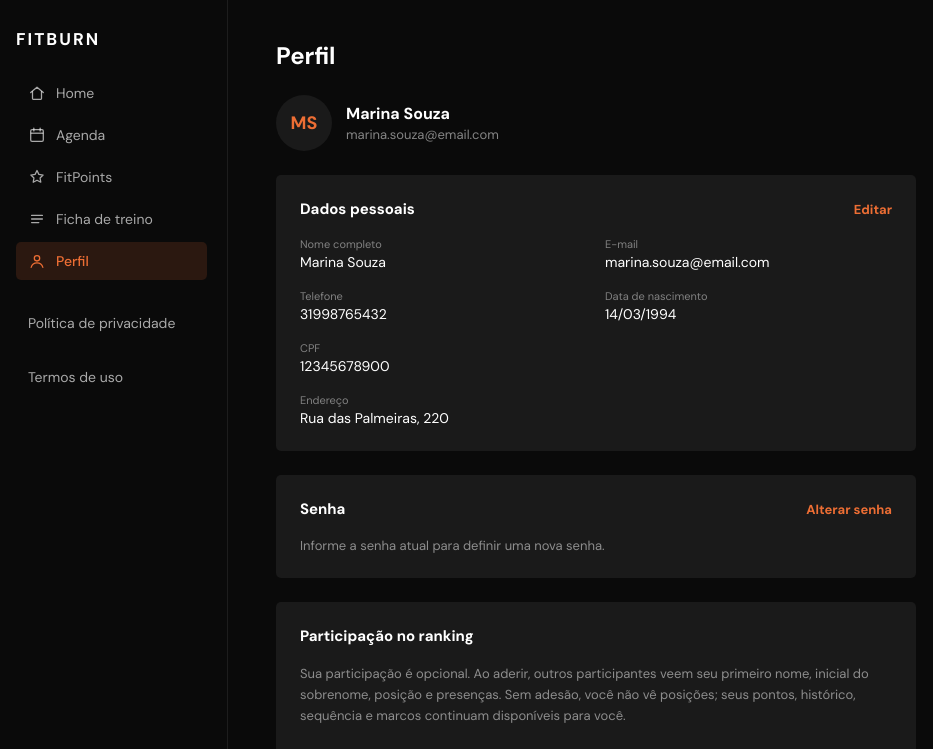
Perfil / Minha conta › cliente › impede remover telefone e data de nascimento
Click the button "Editar": (873, 209) [854,200,892,218]
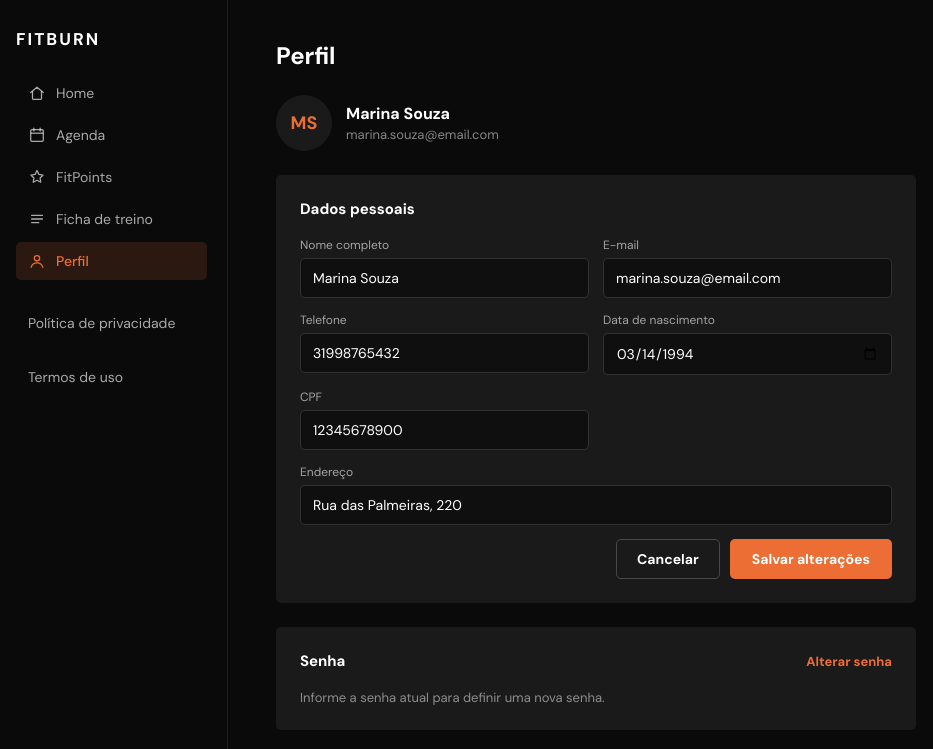
Clear the field labelled "Telefone": (444, 353) [300,333,589,373]
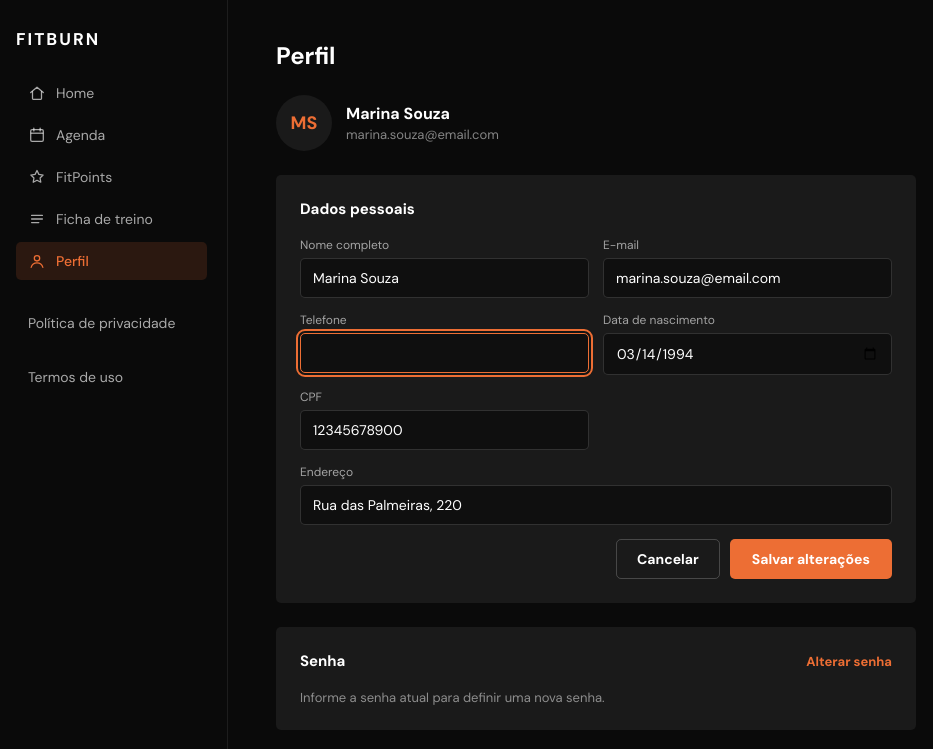
Clear the date field labelled "Data de nascimento": (748, 354) [603,333,892,375]
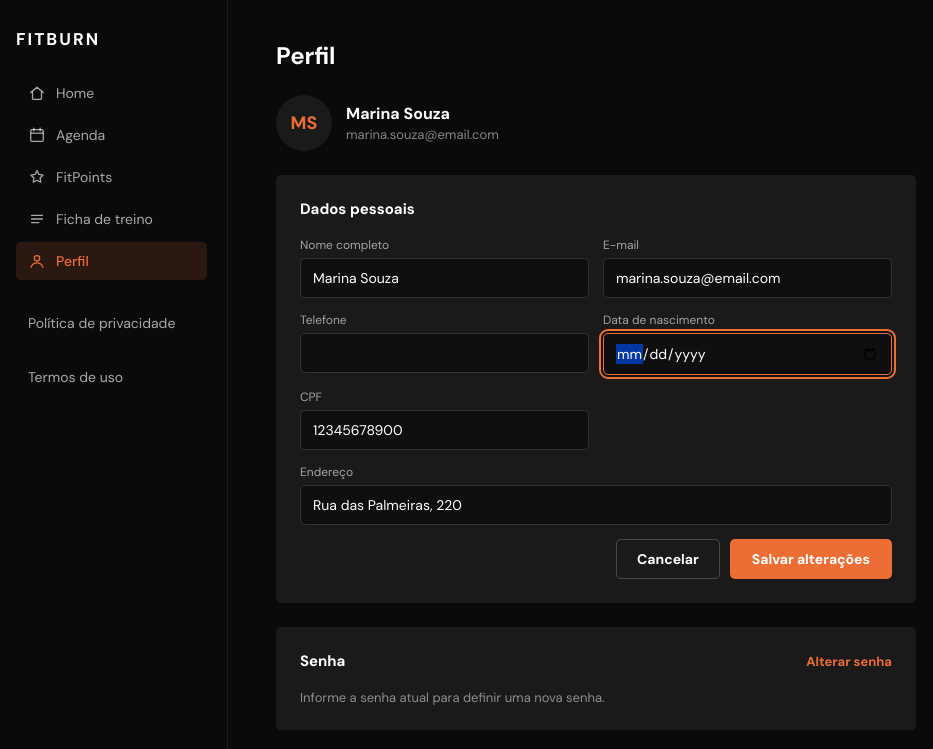
Click the button "Salvar alterações": (811, 559) [730,539,892,579]
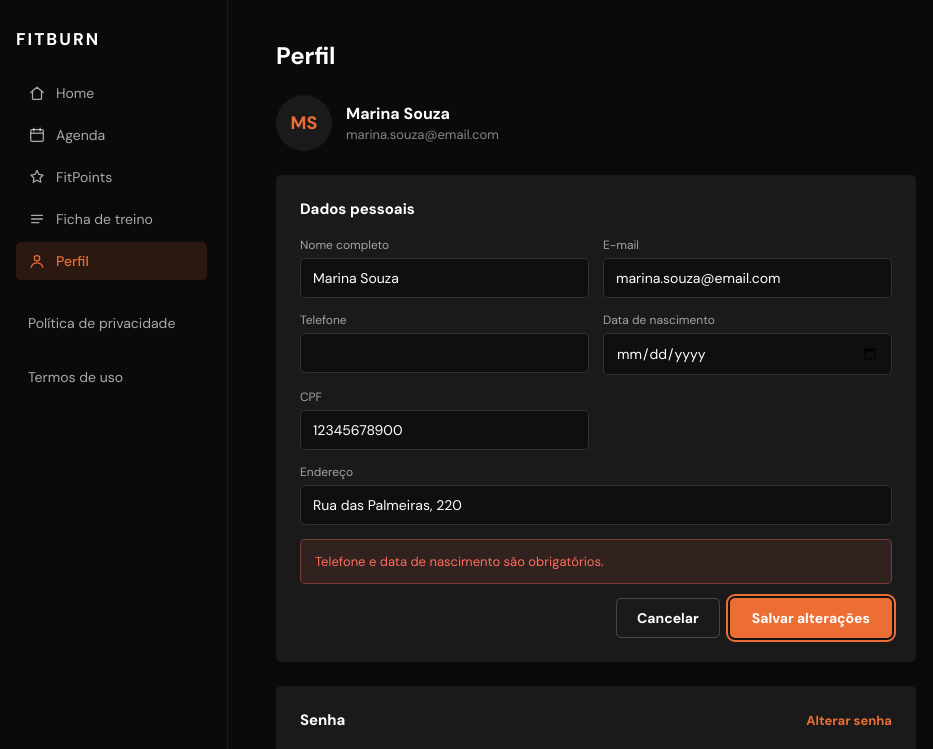
Expected: the message reads "Telefone e data de nascimento são obrigatórios.", [315,553,604,570]
